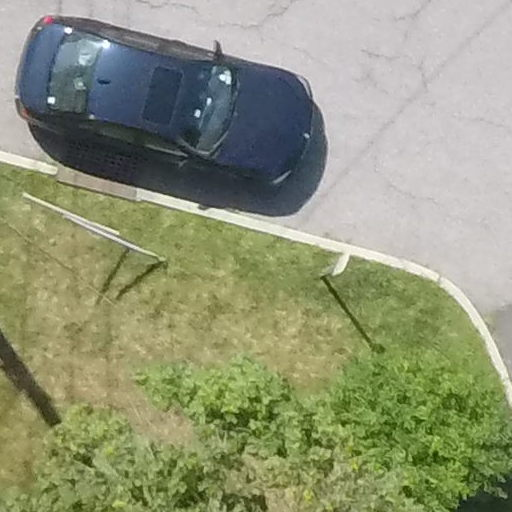car: (6, 5, 335, 212)
drain: (47, 130, 178, 243)
